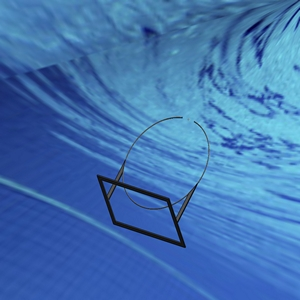circle: (96, 114, 211, 247)
